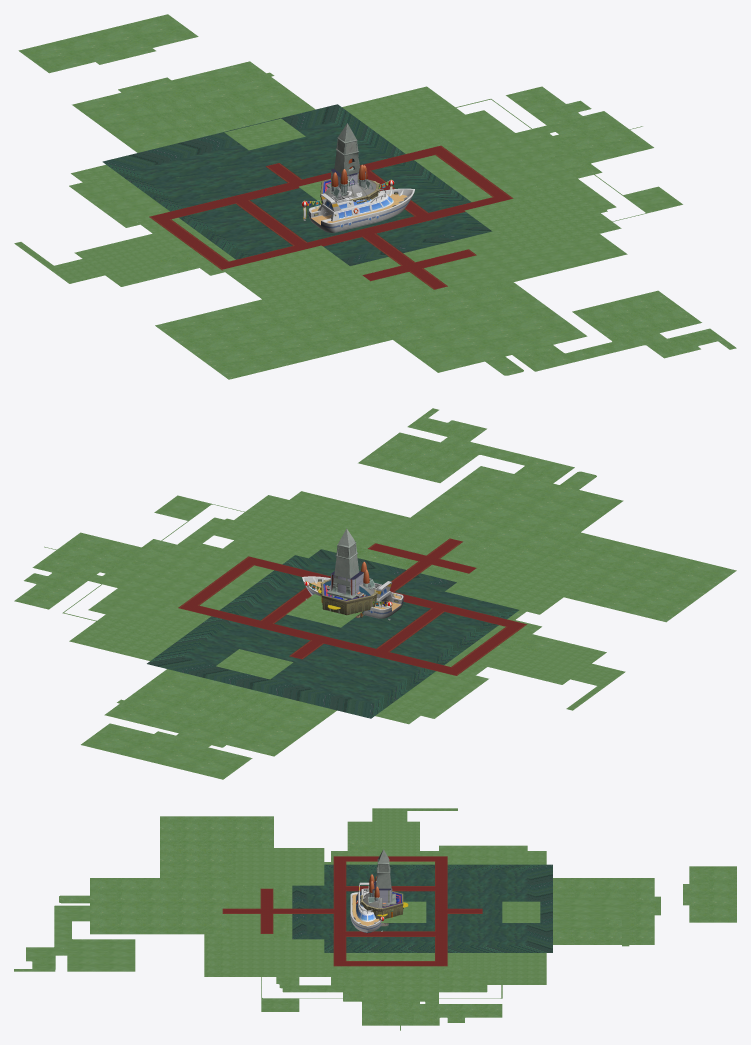
The model's file is kanto.glb.
3 renders of one model, top to bottom at view 1: azimuth 30°, elevation 25°; view 2: azimuth 150°, elevation 25°; view 3: azimuth 270°, elevation 25°, orthographic. The views are drawn at different scales.
Visible parts, largest first — view 1: lib:boss_floor, lib:2haolu_b_y_floor, lib:leitai_floor, lib:8haolu_floor, lib:7haolu_floor, lib:leitai_floor02, lib:senlin_s_floor, lib:shanggu4_floor, lib:shanggu3_a_floor, lib:shanggudengta_floor, SM_C_001_Ship_02, lib:6haochengshi_floor (+5 smaller); view 2: lib:2haolu_b_y_floor, lib:boss_floor, lib:leitai_floor, lib:8haolu_floor, lib:7haolu_floor, lib:leitai_floor02, lib:shanggu4_floor, lib:shanggu3_a_floor, lib:senlin_s_floor, lib:shanggudengta_floor, lib:6haochengshi_floor, SM_R_209_LostTower_01 (+5 smaller); view 3: lib:boss_floor, lib:2haolu_b_y_floor, lib:leitai_floor, lib:8haolu_floor, lib:7haolu_floor, lib:leitai_floor02, lib:shanggu4_floor, lib:shanggu3_a_floor, lib:shanggudengta_floor, lib:senlin_s_floor, lib:6haochengshi_floor, SM_C_001_Ship_02 (+4 smaller).
Part boxes in pixels (x1=…): lib:boss_floor: x1=18, y1=14, x2=587, y2=375; lib:2haolu_b_y_floor: x1=102, y1=104, x2=492, y2=265; lib:leitai_floor: x1=71, y1=86, x2=621, y2=311; lib:8haolu_floor: x1=155, y1=86, x2=653, y2=379; lib:7haolu_floor: x1=141, y1=72, x2=736, y2=371; lib:leitai_floor02: x1=149, y1=145, x2=513, y2=289; lib:senlin_s_floor: x1=307, y1=185, x2=627, y2=310; lib:shanggu4_floor: x1=69, y1=99, x2=682, y2=227; lib:shanggu3_a_floor: x1=363, y1=125, x2=642, y2=265; lib:shanggudengta_floor: x1=14, y1=230, x2=432, y2=286; SM_C_001_Ship_02: x1=308, y1=188, x2=414, y2=232; lib:6haochengshi_floor: x1=350, y1=117, x2=527, y2=268; lib:2haolu_b_y_floor: x1=147, y1=549, x2=519, y2=718; lib:boss_floor: x1=81, y1=466, x2=623, y2=779; lib:leitai_floor: x1=69, y1=495, x2=594, y2=724; lib:8haolu_floor: x1=14, y1=524, x2=736, y2=622; lib:7haolu_floor: x1=117, y1=408, x2=574, y2=732; lib:leitai_floor02: x1=178, y1=538, x2=526, y2=675; lib:shanggu4_floor: x1=62, y1=495, x2=488, y2=718; lib:shanggu3_a_floor: x1=44, y1=546, x2=447, y2=610; lib:senlin_s_floor: x1=212, y1=491, x2=491, y2=579; lib:shanggudengta_floor: x1=265, y1=551, x2=625, y2=710; lib:6haochengshi_floor: x1=128, y1=546, x2=460, y2=637; SM_R_209_LostTower_01: x1=326, y1=528, x2=359, y2=599; lib:boss_floor: x1=59, y1=866, x2=736, y2=944; lib:2haolu_b_y_floor: x1=292, y1=864, x2=552, y2=952; lib:leitai_floor: x1=229, y1=848, x2=546, y2=985; lib:8haolu_floor: x1=160, y1=816, x2=502, y2=1025; lib:7haolu_floor: x1=14, y1=897, x2=629, y2=971; lib:leitai_floor02: x1=222, y1=856, x2=482, y2=966; lib:shanggu4_floor: x1=261, y1=845, x2=527, y2=1011; lib:shanggu3_a_floor: x1=286, y1=899, x2=438, y2=1030; lib:shanggudengta_floor: x1=287, y1=808, x2=457, y2=923; lib:senlin_s_floor: x1=204, y1=885, x2=348, y2=976; lib:6haochengshi_floor: x1=286, y1=886, x2=495, y2=974; SM_C_001_Ship_02: x1=350, y1=882, x2=382, y2=933.
Size of what is drawn, in the model's own units: 166 by 24.22 by 228.
Materials: 187 (182 with a texture image).
